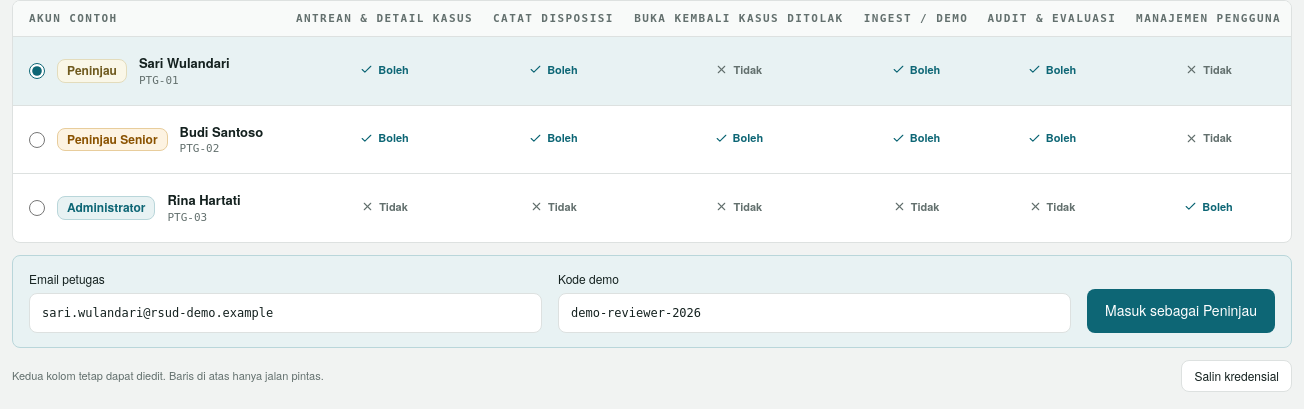
the matrix as the sign-in control › submit is disabled when a field is cleared, and says why
The image size is (1304, 409).
Clear the field labelled "Kode demo": coordinates (814, 313) [558, 293, 1071, 333]
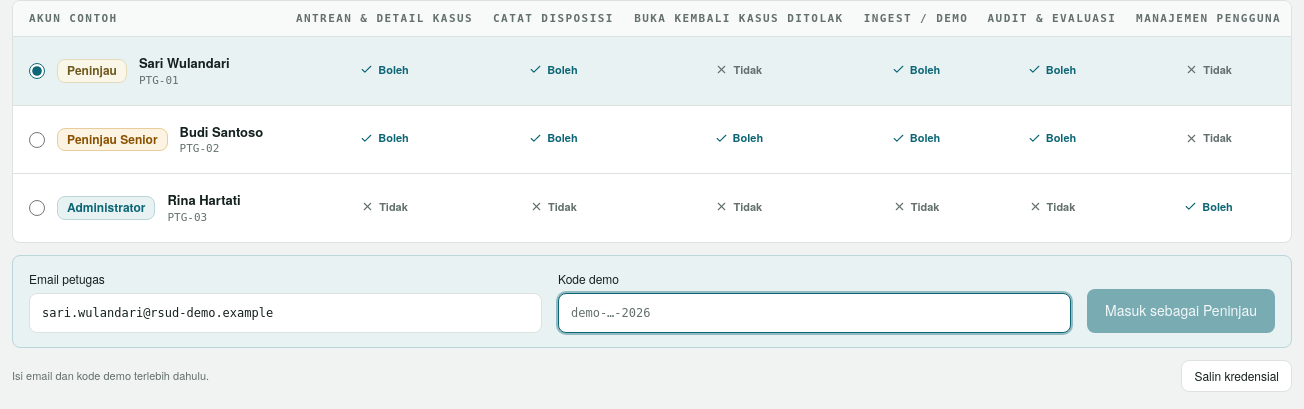
Check: the button "Masuk sebagai Peninjau" is disabled, box [1087, 289, 1275, 333]
Check: the text "Isi email dan kode demo terlebih dahulu." is shown, box [12, 368, 209, 384]
